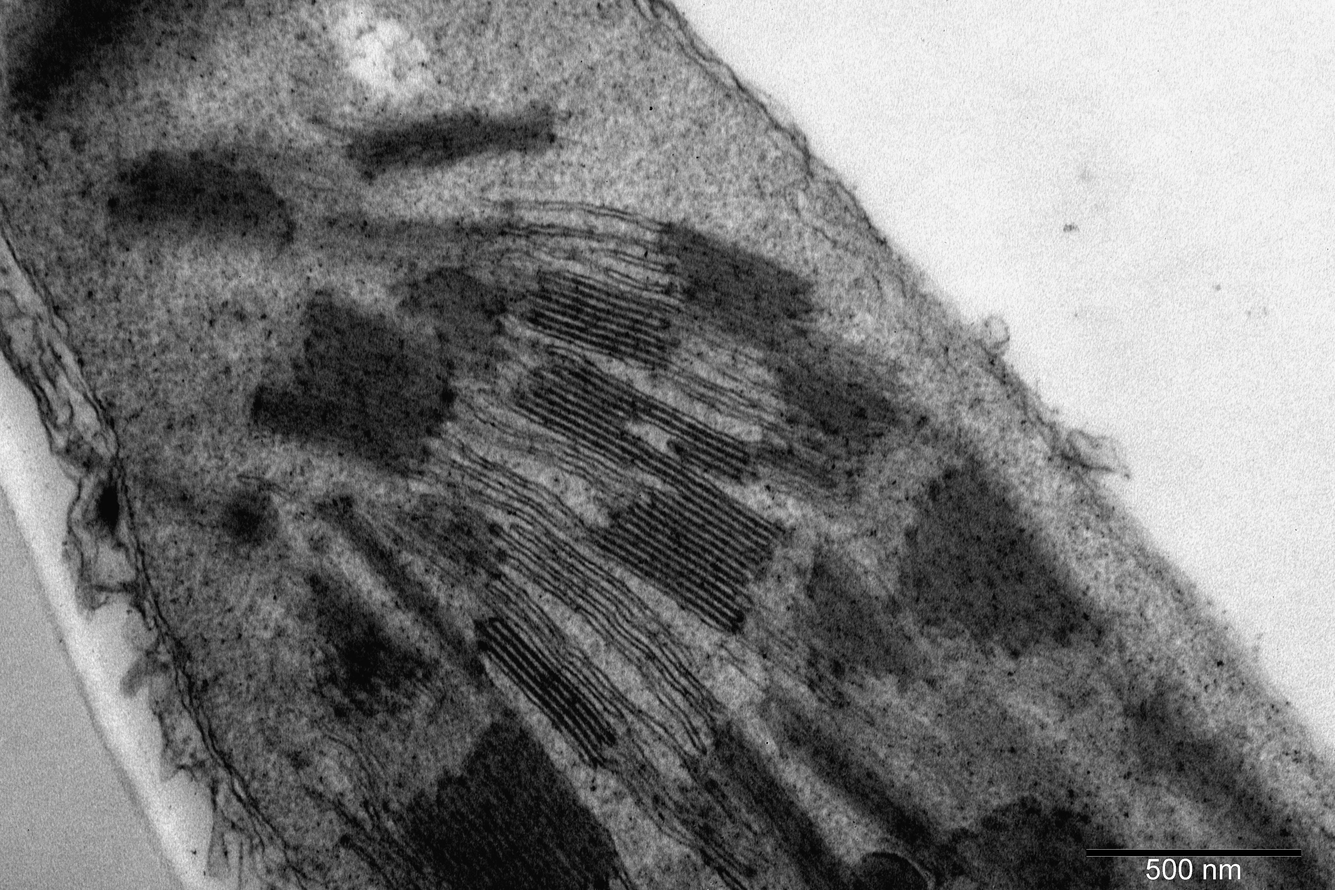granum: (1125, 695, 1333, 889), (404, 708, 621, 890), (252, 296, 456, 479), (582, 464, 791, 637), (507, 346, 752, 493), (906, 465, 1095, 655), (313, 491, 486, 683), (783, 703, 948, 879), (709, 720, 850, 887), (786, 526, 937, 681), (473, 615, 621, 772), (659, 221, 814, 351), (945, 788, 1141, 890), (106, 147, 290, 251), (517, 264, 680, 377), (7, 0, 139, 119), (343, 104, 557, 177), (314, 580, 439, 702), (390, 260, 507, 360), (777, 358, 898, 443)
